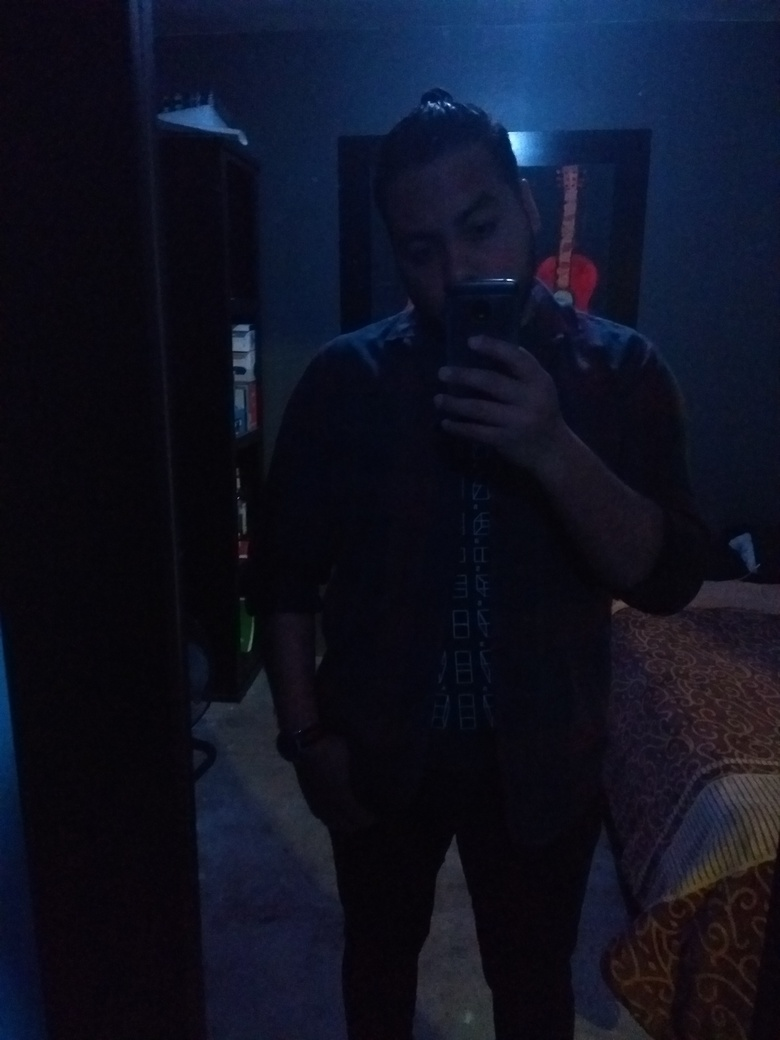Yoshi: (335, 65, 573, 304)
